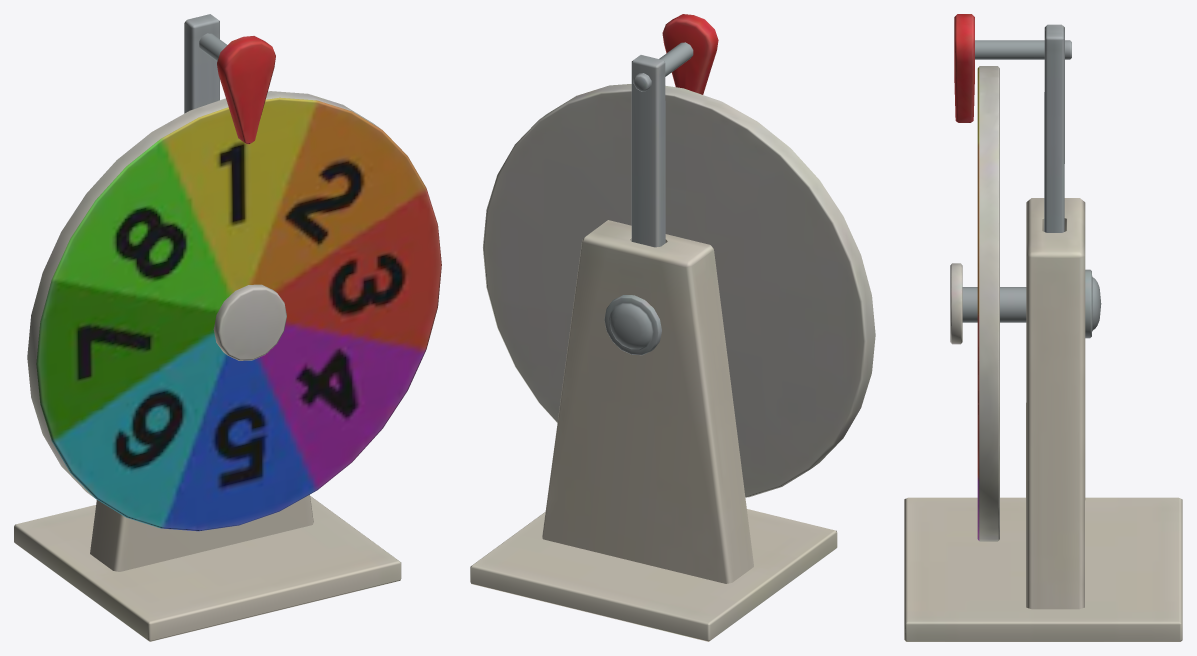
The picture shows the model from 3 angles, left to right: view 1: azimuth 30°, elevation 25°; view 2: azimuth 150°, elevation 25°; view 3: azimuth 270°, elevation 25°; orthographic projection. The views are drawn at different scales.
Bounding box in the file's own units: 14.14 × 18.36 × 8.25.
1 material, 1 textured.
